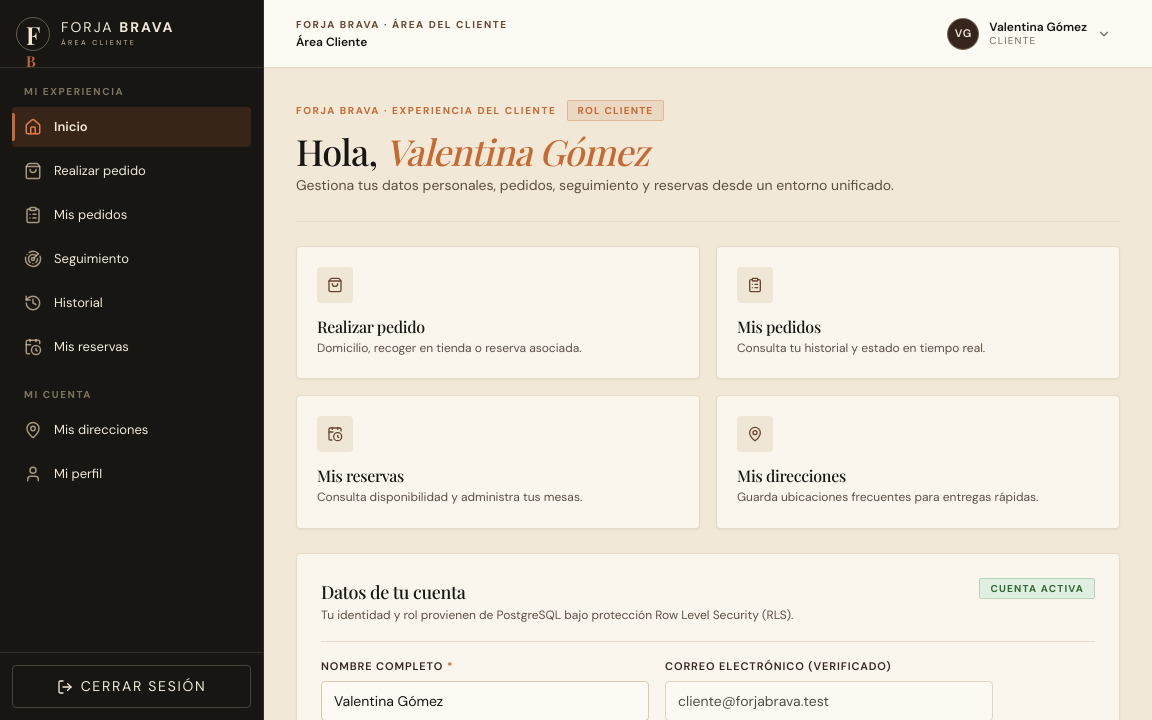
Scenario: Integración — Layouts, navegación por rol, breadcrumbs y menú de usuario › renderiza ClientLayout con las 7 secciones del cliente, breadcrumbs y menú de usuario
The width and height of the screenshot is (1152, 720).
Expected: the element named "navegación del cliente" is shown, [0,0,264,719]
Expected: the link "Inicio" is shown, [12,107,251,147]
Note: Navegar a Mis reservas y verificar actualización de breadcrumbs
Click the link "Mis reservas" at (76, 347), box [24,338,129,356]
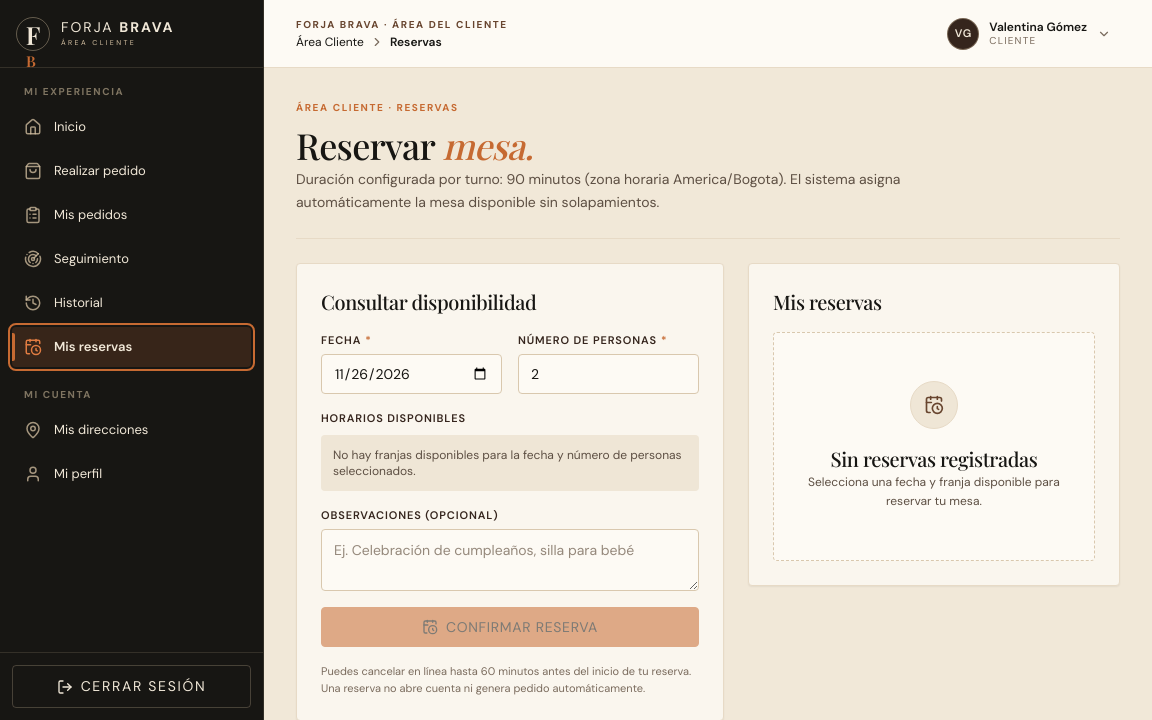
Now the navigation bar named "ruta de navegación" shows "Reservas", box [390,34,442,50]
Note: Abrir menú de usuario y confirmar opciones
Click the button "VG Valentina Gómez Cliente" at (1029, 34), box [938,10,1120,56]
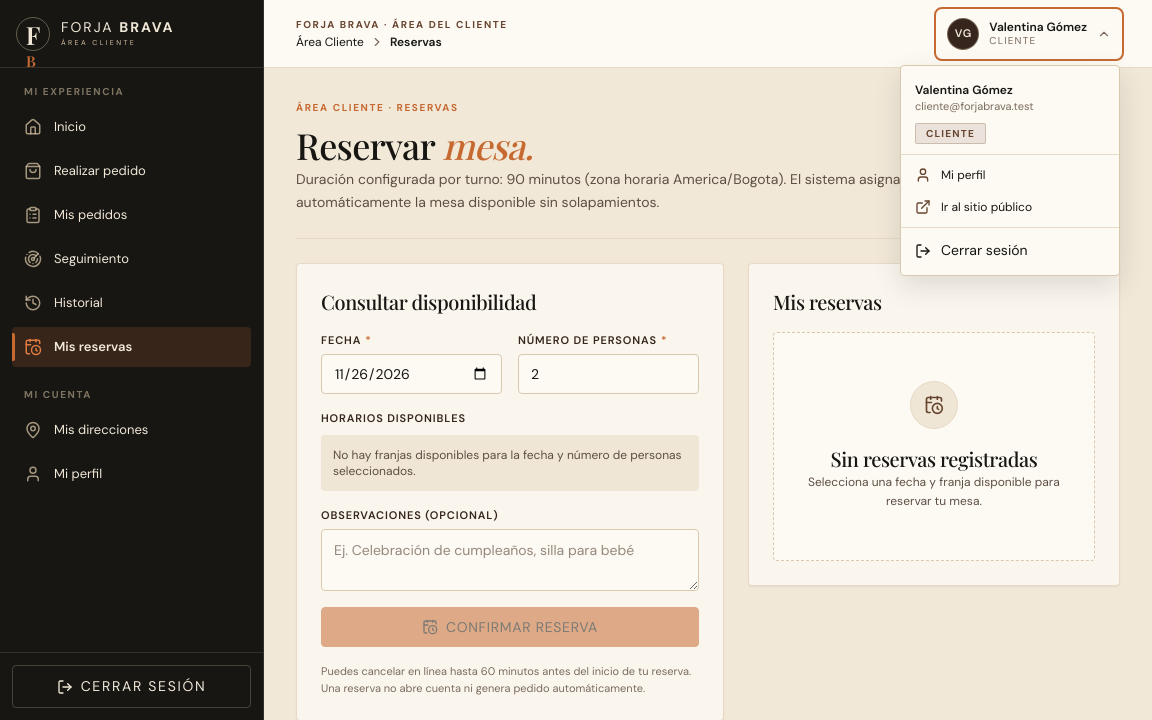
Now the menu named "menú de usuario" is shown, box [900,64,1120,276]
